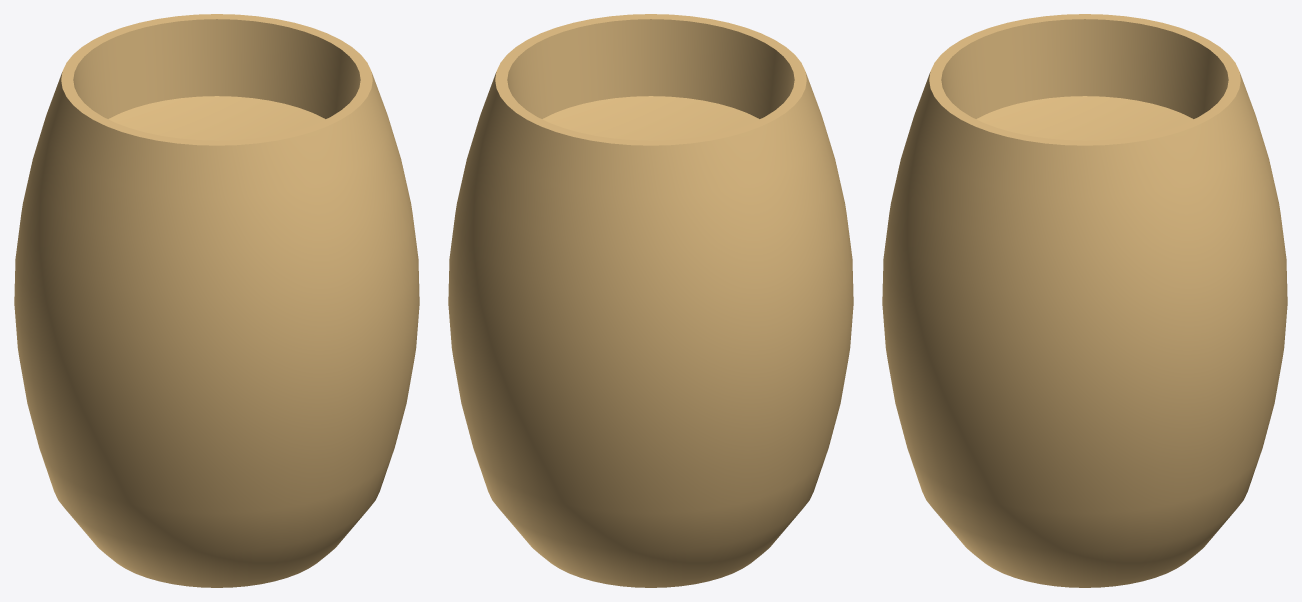
File: JAC_13_Vaso_Alto.glb
3 renders of one model, left to right at view 1: azimuth 30°, elevation 25°; view 2: azimuth 150°, elevation 25°; view 3: azimuth 270°, elevation 25°, orthographic.
Parts seen in each view (by area): view 1: JAC_13_Vaso_Alto; view 2: JAC_13_Vaso_Alto; view 3: JAC_13_Vaso_Alto.
Part boxes in pixels (x1=…): JAC_13_Vaso_Alto: x1=14, y1=14, x2=419, y2=587; JAC_13_Vaso_Alto: x1=448, y1=14, x2=853, y2=587; JAC_13_Vaso_Alto: x1=882, y1=14, x2=1287, y2=587.
Bounding box in the file's own units: 0.5996 × 0.75 × 0.5996.
